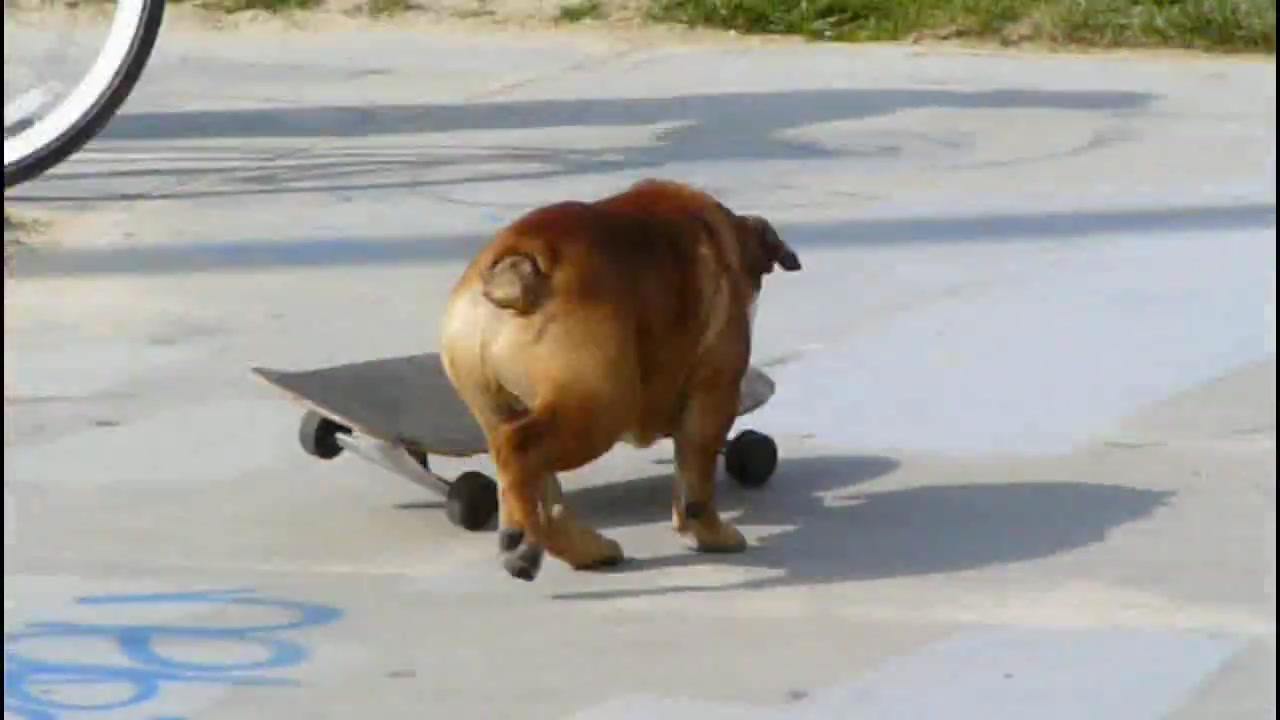dog: (437, 181, 805, 585)
